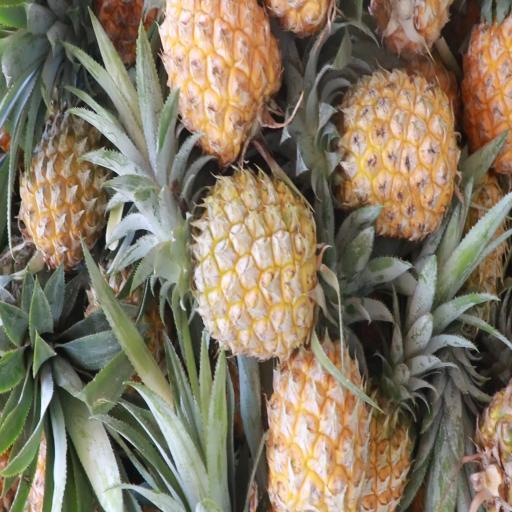Pineapple - v8 v1: (188, 164, 326, 367), (320, 69, 464, 242), (264, 295, 374, 512), (154, 1, 280, 161), (20, 98, 104, 263)
